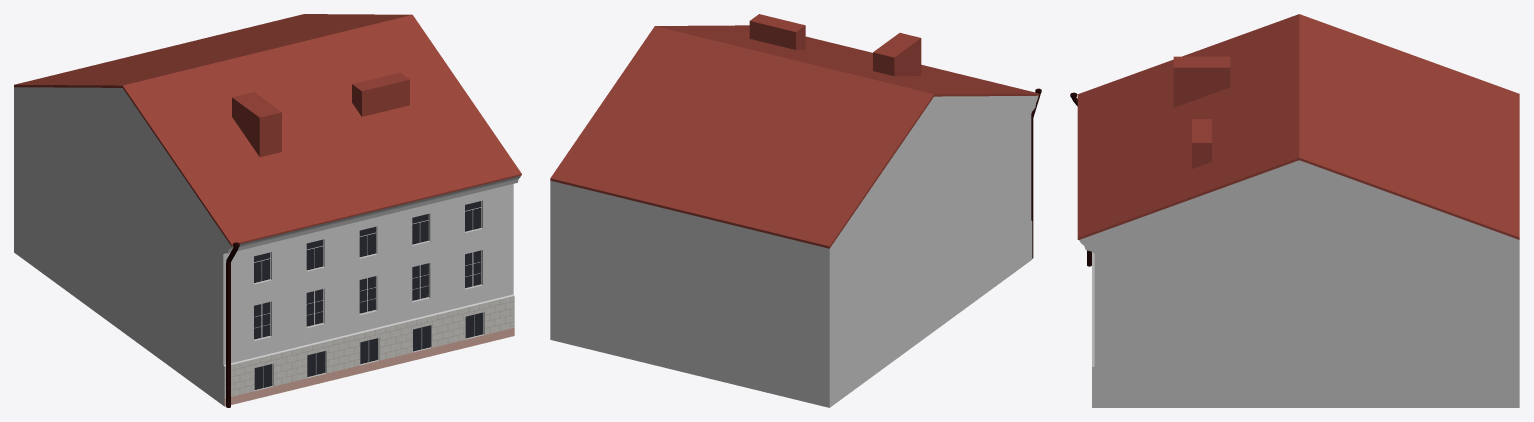
File: OldCityHouse1.fbx
3 renders of one model, left to right at view 1: azimuth 30°, elevation 25°; view 2: azimuth 150°, elevation 25°; view 3: azimuth 270°, elevation 25°, orthographic. The views are drawn at different scales.
Visible parts, largest first — view 1: Cube; view 2: Cube; view 3: Cube.
Part boxes in pixels (<box>): Cube: <box>14,14,521,407</box>; Cube: <box>550,14,1041,407</box>; Cube: <box>1070,14,1519,407</box>.
Size of the model in its own units: 1201 by 974 by 1586.
